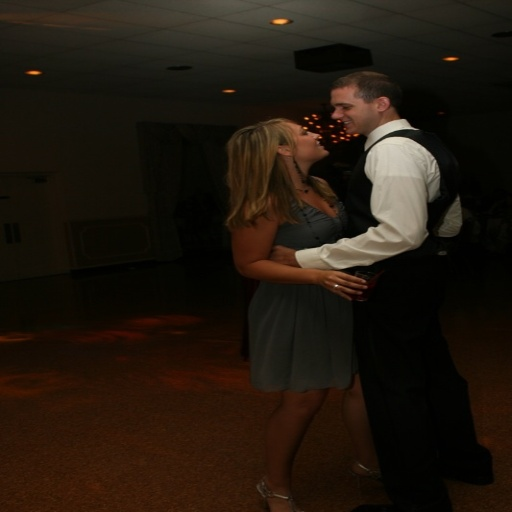hand: (304, 264, 389, 298), (267, 247, 298, 267)
